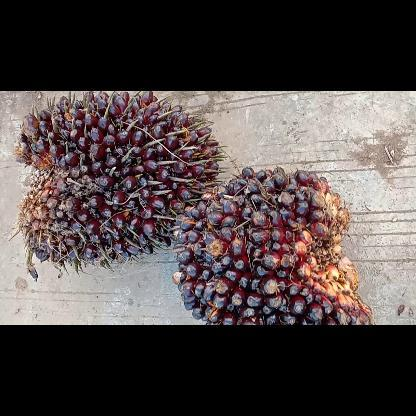TBS mentah: (13, 90, 227, 280), (172, 166, 374, 324)
